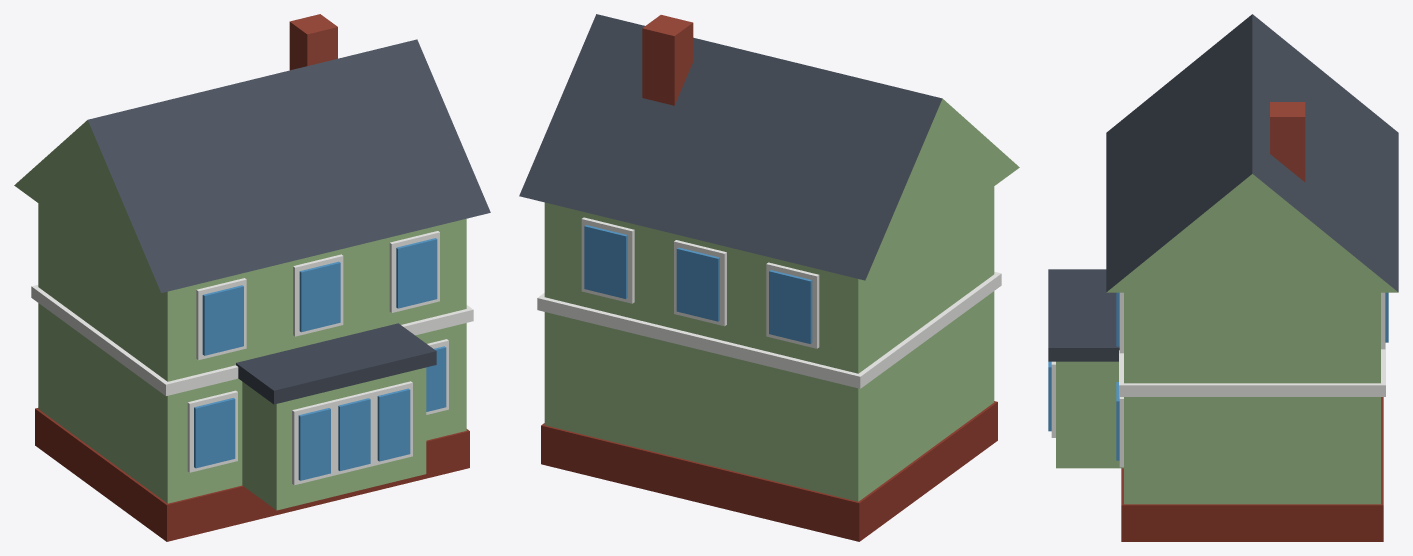
File: 78_vilnius_villa_1.obj
The picture shows the model from 3 angles, left to right: view 1: azimuth 30°, elevation 25°; view 2: azimuth 150°, elevation 25°; view 3: azimuth 270°, elevation 25°; orthographic projection. The views are drawn at different scales.
Parts seen in each view (by area): view 1: 78_vilnius_villa_1; view 2: 78_vilnius_villa_1; view 3: 78_vilnius_villa_1.
Boxes of the visible parts, <box> form: 78_vilnius_villa_1: <box>14,14,490,541</box>; 78_vilnius_villa_1: <box>519,14,1019,541</box>; 78_vilnius_villa_1: <box>1048,14,1398,541</box>.
Bounding box in the file's own units: 1.5 × 1.74 × 1.39.
